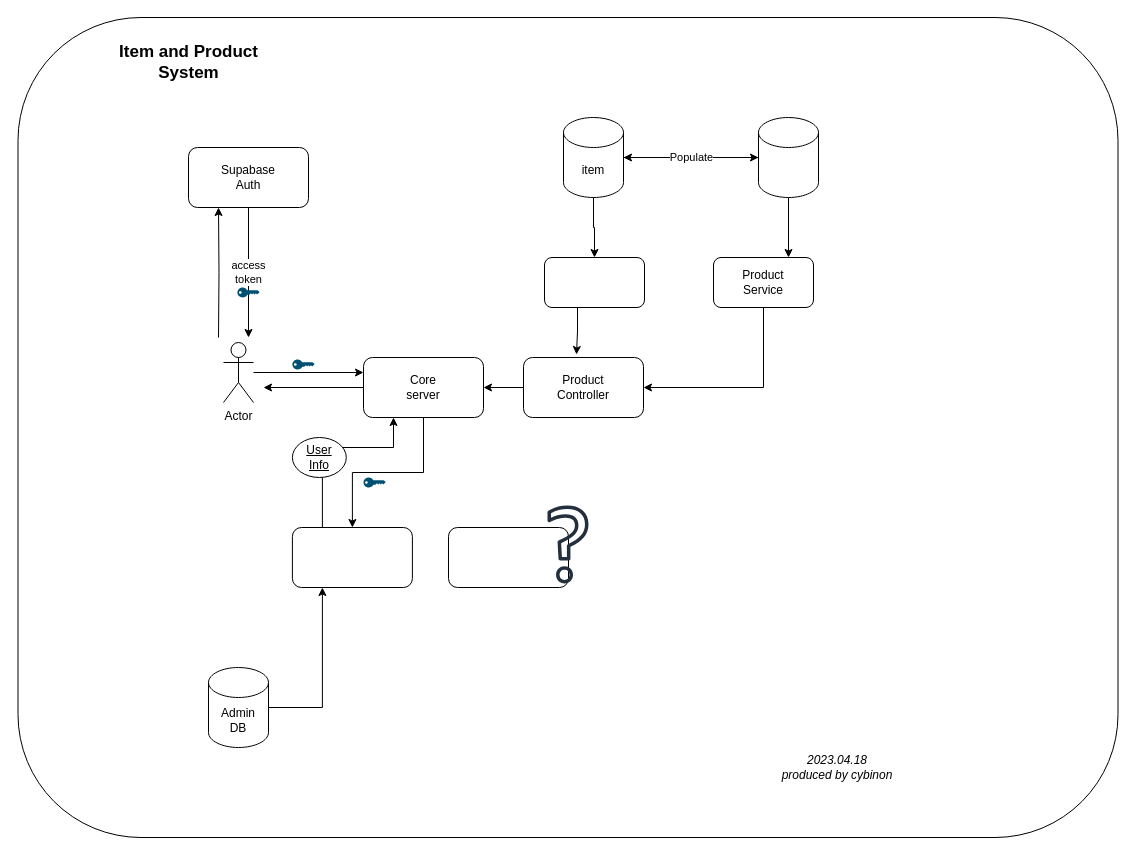
The diagram is 1135 pixels wide and 855 high, and some of its shapes have lost their labels. The shapes that lost their labels are listed below. From the top down, each one's box as (x1, y1, x2, y2) in pixels, then its label:
(758, 116, 818, 198): product
(544, 256, 644, 308): Item Service
(291, 526, 412, 588): Admin Middleware
(448, 526, 568, 588): User Middleware
